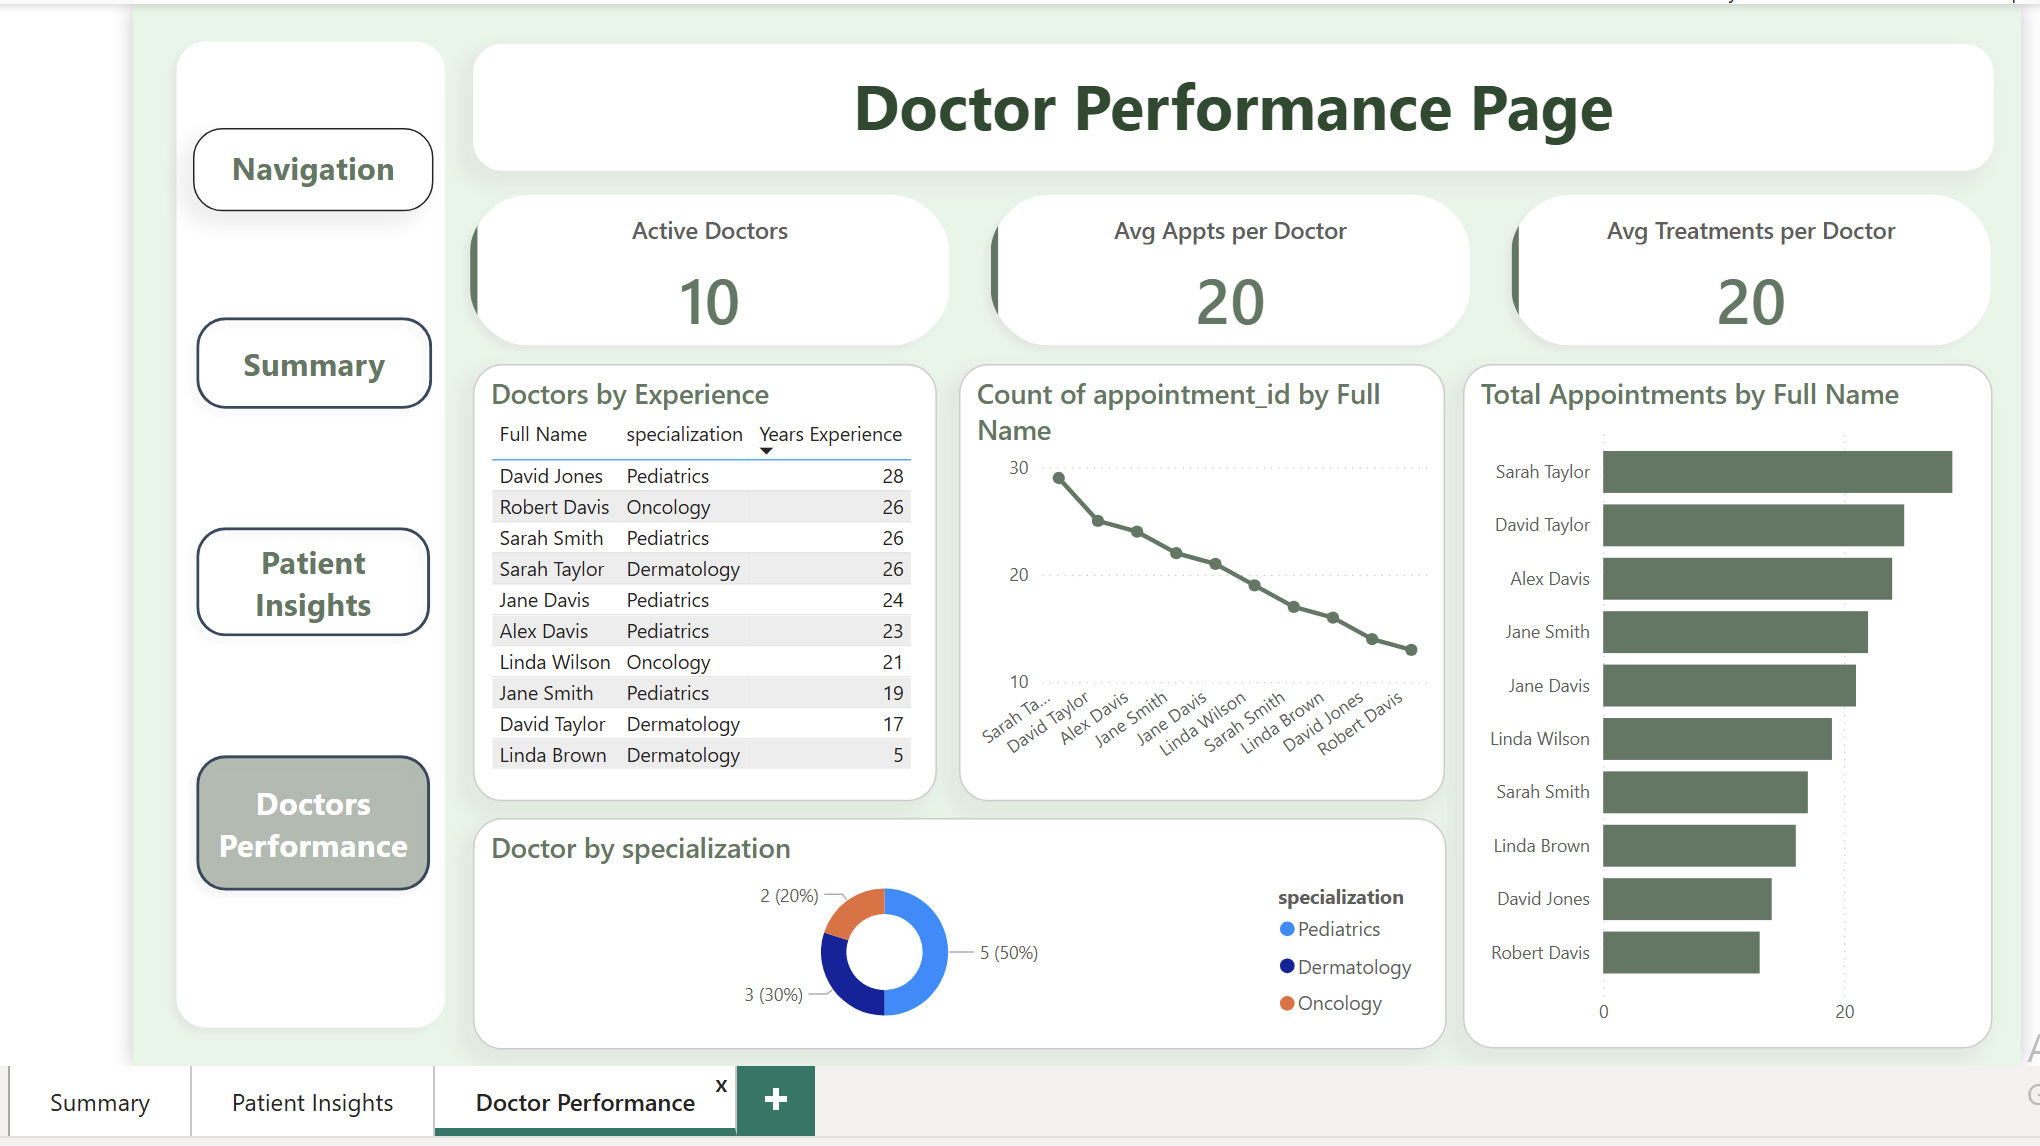

The dashboard page shown, as its layout file describes it:
{"tool":"powerbi","page":{"name":"Doctor Performance","canvas":[1280,720],"ordinal":2},"visuals":[{"type":"shape","box":[20.8,16.3,200.2,686.7],"z":0},{"type":"textbox","box":[229.9,26.7,1030.8,86],"z":1000},{"type":"cardVisual","fields":{"Data":["All Measures.Active Doctors","All Measures.Avg Appts per Doctor","All Measures.Avg Treatments per Doctor"]},"box":[212.1,112.7,1067.9,136.5],"z":7001},{"type":"barChart","fields":{"Category":["doctors.Full Name"],"Y":["All Measures.Total Appointments"]},"box":[901.8,244.7,358.9,464.2],"z":7002},{"type":"tableEx","title":" Doctors by Experience","fields":{"Values":["doctors.Full Name","doctors.specialization","doctors.years_experience"]},"box":[229.9,244.7,314.4,296.6],"z":7003},{"type":"lineChart","fields":{"Y":["appointments.appointment_id"],"Category":["doctors.Full Name"]},"box":[560.6,244.7,329.3,296.6],"z":7004},{"type":"donutChart","fields":{"Category":["doctors.specialization"],"Y":["doctors.doctor_id"]},"box":[229.9,551.7,660,157.2],"z":7005},{"type":"actionButton","title":"Summary","box":[33.4,203.2,178,80.1],"z":7006},{"type":"actionButton","title":"Summary","box":[34.1,345.6,176.5,92],"z":7007},{"type":"actionButton","title":"Summary","box":[34.1,499.8,176.5,109.8],"z":7008},{"type":"textbox","box":[40.8,84.5,163.2,56.4],"z":7009}]}

Visuals, with their boxes on the page's 1280x720 design canvas (x1, y1, x2, y2). These are canvas units, not pixel positions in the 2040x1146 screenshot, which may show the page scaled, cropped or inside an application window:
shape: (21,16,221,703)
textbox: (230,27,1261,113)
cardVisual - All Measures.Active Doctors x All Measures.Avg Appts per Doctor: (212,113,1280,249)
barChart - doctors.Full Name x All Measures.Total Appointments: (902,245,1261,709)
" Doctors by Experience" tableEx: (230,245,544,541)
lineChart - appointments.appointment_id x doctors.Full Name: (561,245,890,541)
donutChart - doctors.specialization x doctors.doctor_id: (230,552,890,709)
"Summary" actionButton: (33,203,211,283)
"Summary" actionButton: (34,346,211,438)
"Summary" actionButton: (34,500,211,610)
textbox: (41,84,204,141)
